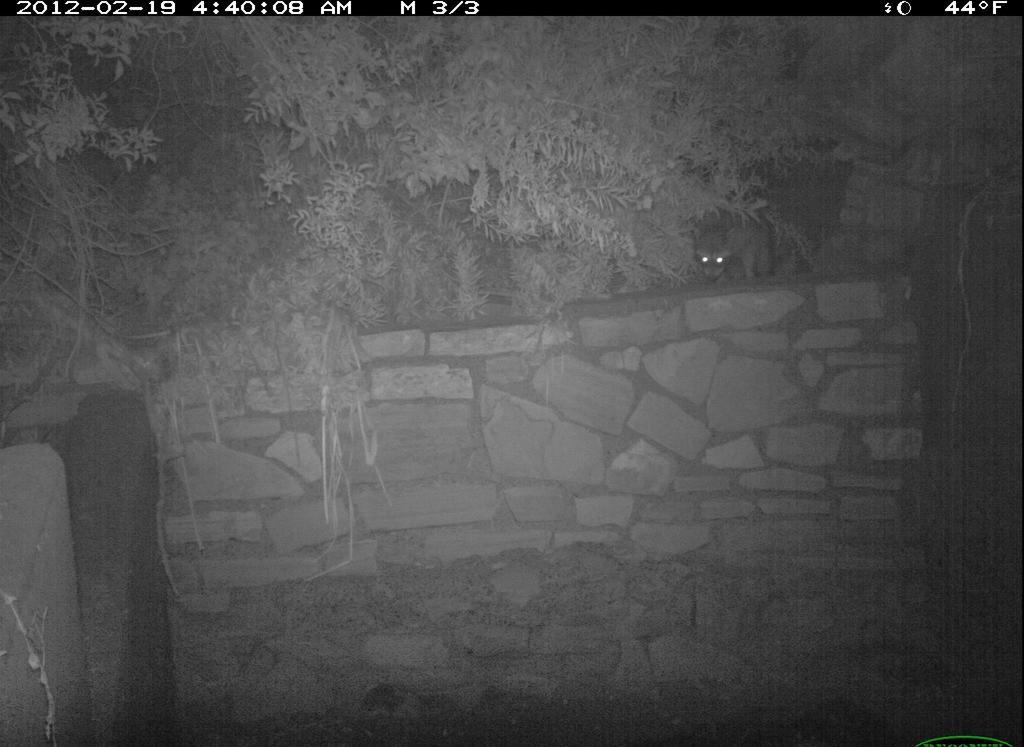raccoon: (684, 195, 795, 296)
